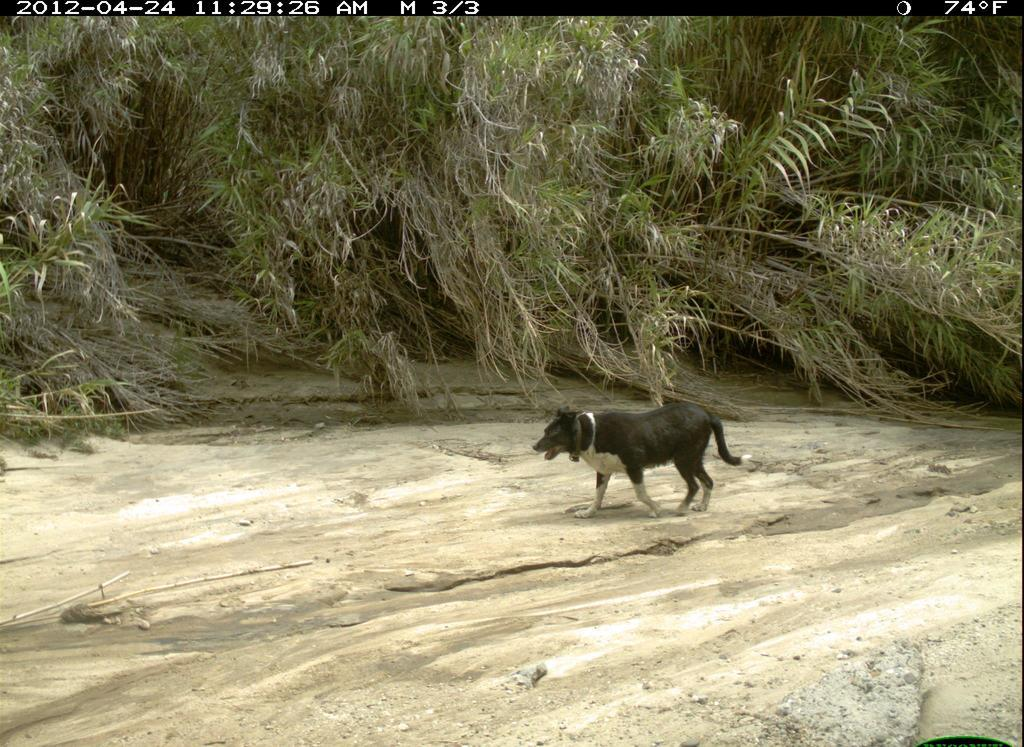dog: (530, 404, 757, 525)
